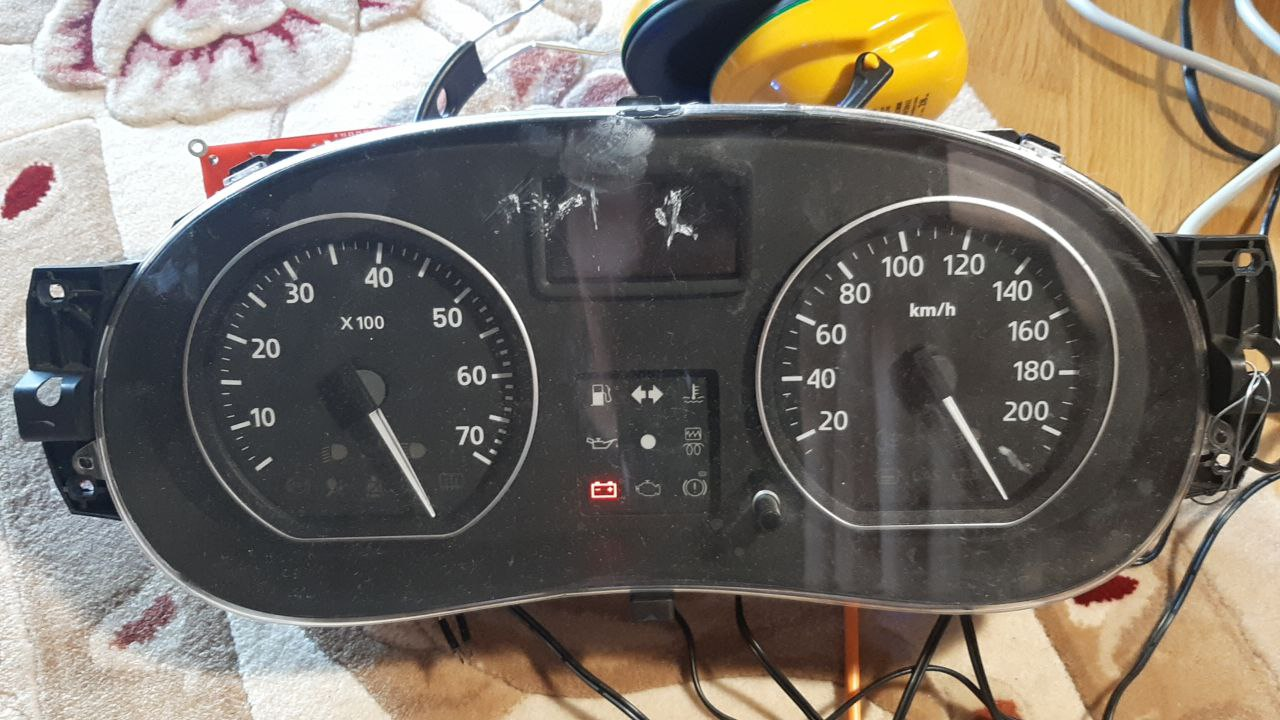accumulator: (583, 478, 624, 500)
